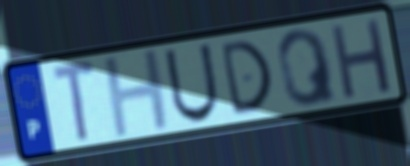D: (217, 37, 275, 119)
H: (100, 45, 174, 142), (328, 14, 395, 103)
Q: (274, 26, 341, 110)
T: (49, 57, 99, 147)
U: (161, 41, 221, 126)
